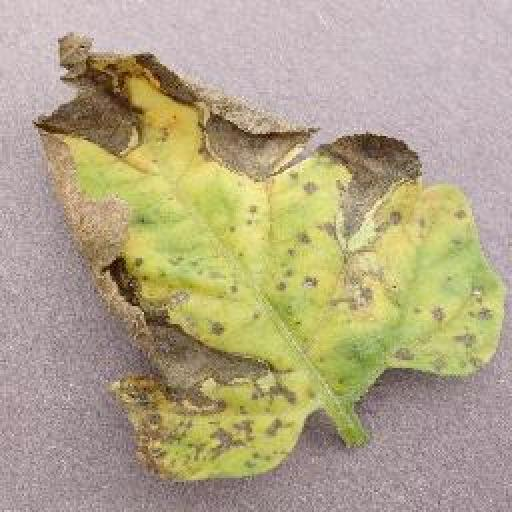disease_tomato: (38, 34, 510, 482)
